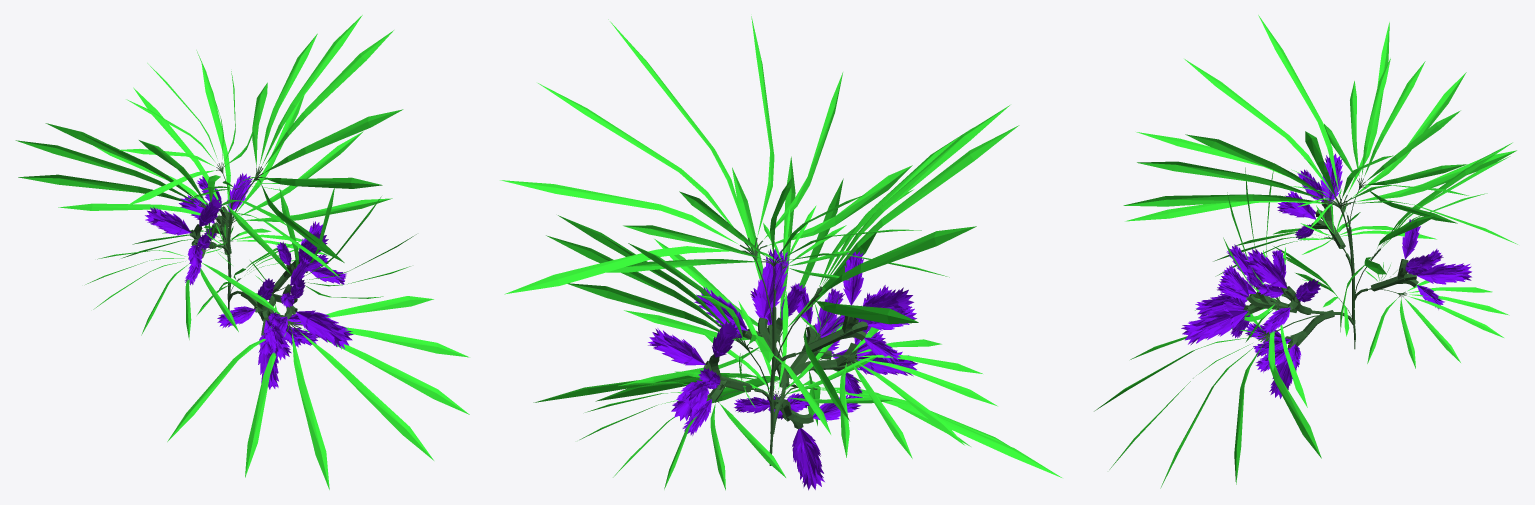
The model's file is plants1.obj.
3 views of the same model, side by side, from view 1: azimuth 30°, elevation 25°; view 2: azimuth 150°, elevation 25°; view 3: azimuth 270°, elevation 25° (orthographic). The views are drawn at different scales.
Visible parts, largest first — view 1: 1Newplan; view 2: 1Newplan; view 3: 1Newplan.
Part boxes in pixels (x1,y1,x2,y2): 1Newplan: [15, 15, 469, 489]; 1Newplan: [500, 16, 1061, 490]; 1Newplan: [1094, 15, 1517, 488].
Size of the model in its own units: 938 by 877 by 920.
